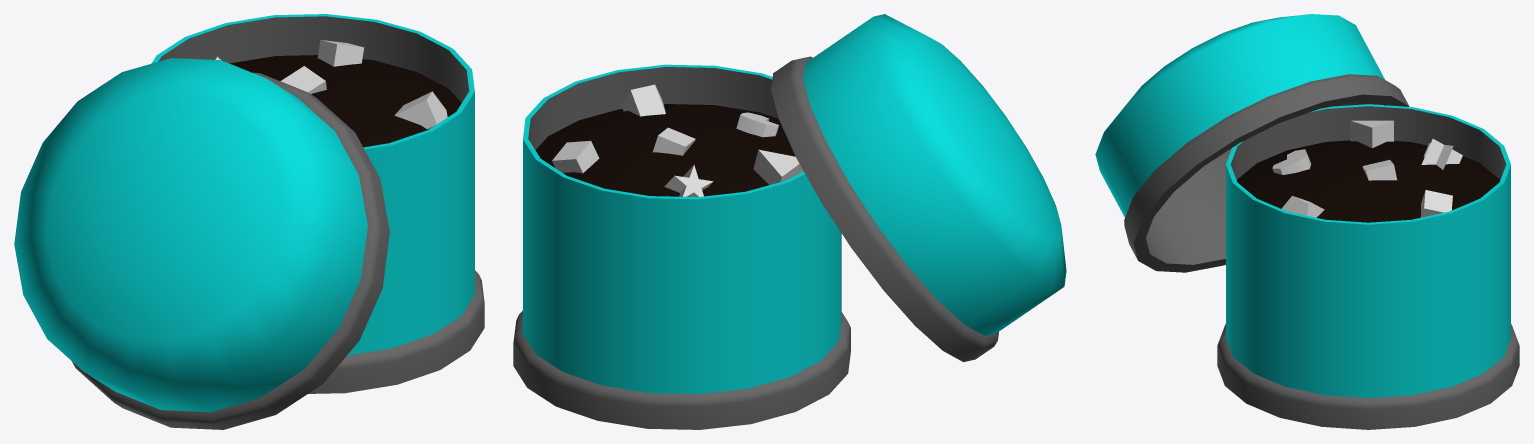
The model's file is treat_tin_full_open.fbx.
3 renders of one model, left to right at view 1: azimuth 30°, elevation 25°; view 2: azimuth 150°, elevation 25°; view 3: azimuth 270°, elevation 25°, orthographic. The views are drawn at different scales.
Visible parts, largest first — view 1: polySurface2, polySurface1, hexagon_treat1, square_treat1, square_treat2; view 2: polySurface1, polySurface2, triangle_treat1, square_treat1, hexagon_treat1, star_treat1, square_treat2, heart_treat1; view 3: polySurface1, polySurface2, triangle_treat1, star_treat1, square_treat1, heart_treat1, square_treat2, hexagon_treat1.
Part boxes in pixels (left/top/right/bottom): polySurface2: left=14, top=58, right=389, bottom=429; polySurface1: left=151, top=14, right=484, bottom=393; hexagon_treat1: left=394, top=91, right=447, bottom=129; square_treat1: left=317, top=40, right=364, bottom=66; square_treat2: left=280, top=66, right=326, bottom=93; polySurface1: left=513, top=64, right=850, bottom=429; polySurface2: left=771, top=14, right=1066, bottom=361; triangle_treat1: left=753, top=149, right=803, bottom=184; square_treat1: left=552, top=140, right=599, bottom=173; hexagon_treat1: left=621, top=84, right=665, bottom=116; star_treat1: left=664, top=165, right=713, bottom=196; square_treat2: left=653, top=127, right=695, bottom=155; heart_treat1: left=736, top=112, right=778, bottom=137; polySurface1: left=1217, top=104, right=1519, bottom=429; polySurface2: left=1095, top=14, right=1409, bottom=272; triangle_treat1: left=1350, top=120, right=1393, bottom=148; star_treat1: left=1421, top=138, right=1462, bottom=169; square_treat1: left=1420, top=190, right=1452, bottom=217; heart_treat1: left=1272, top=149, right=1311, bottom=174; square_treat2: left=1362, top=159, right=1397, bottom=180; hexagon_treat1: left=1281, top=196, right=1324, bottom=217.
Bounding box in the file's own units: 181 × 121 × 162.
